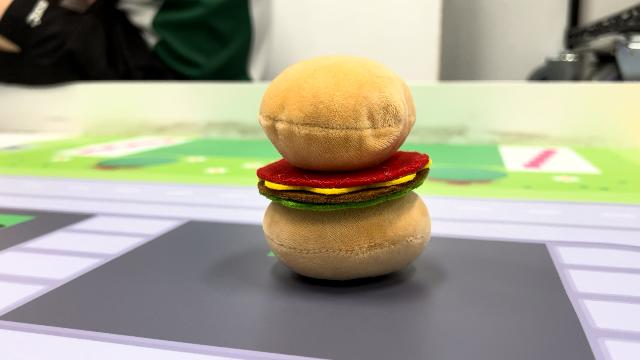burger: (250, 50, 438, 284)
